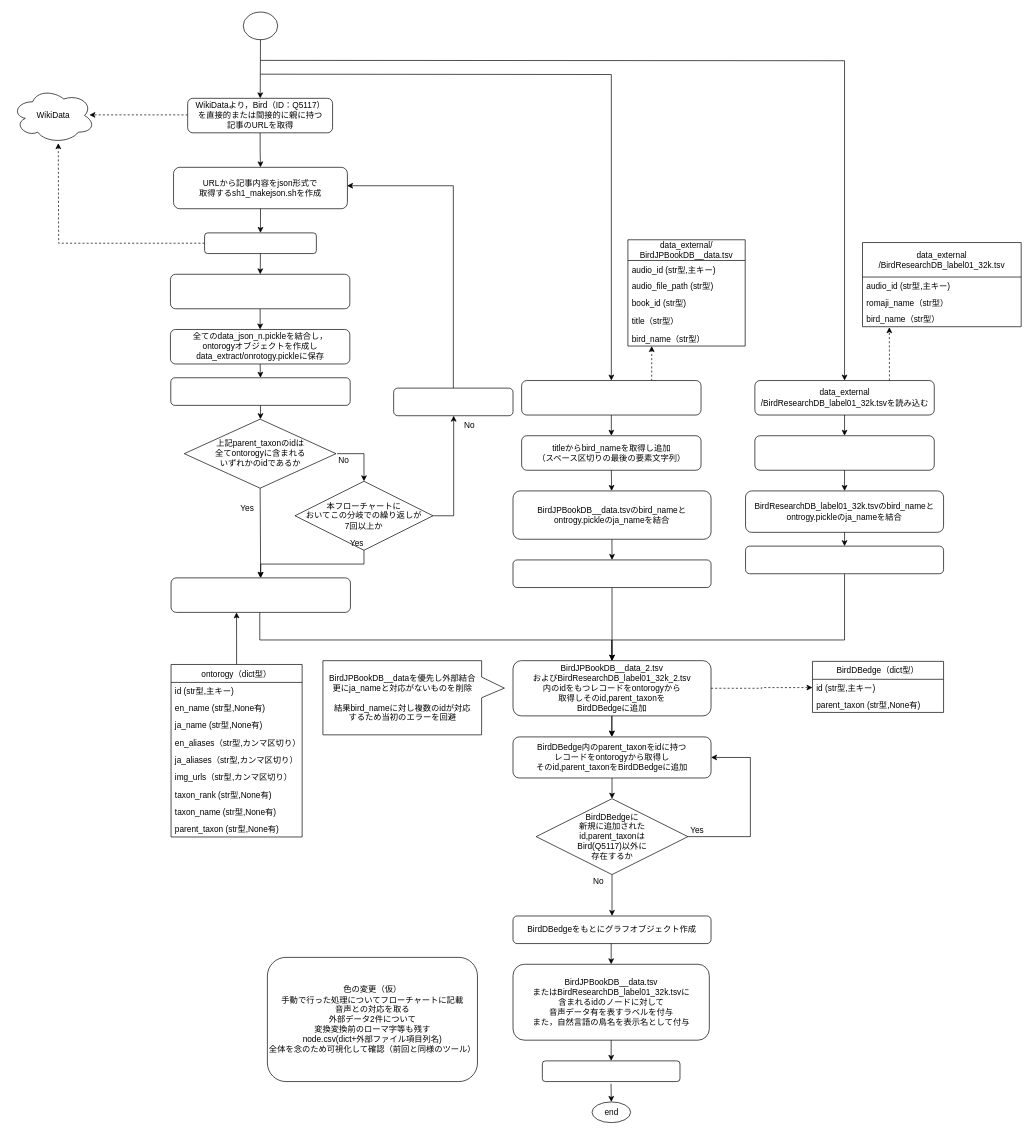
Image size: 1034x1135. Some labels were removed from this diagram. The shapes that lost their labels are listed below. From the top down, each one's centre as x and y in pixels, then its label:
At (260,25): "start".
At (260,243): "sh_make.shを実行".
At (260,291): "実行結果を順に複数の data_extract/ data_json_n.pickle (ただしn = 1,2,...,7,8)ファイルに保存".
At (260,391): "ontorogyにおけるparent_taxon一覧を作成".
At (453,401): "ontorogyに存在しない idの記事URLを作成".
At (611,397): "data_external/BirdJPBookDB__data.tsv を読込む".
At (844,452): "romaji_nameをローマ字カナ変換モジュール に通し，bird_nameを取得・追加".
At (611,573): "BirdJPBookDB__data_2.tsvに結果を保存".
At (844,559): "BirdResearchDB_label01_32k_2.tsvに結果を保存".
At (260,594): "ontorogyからidとparentを取得し 親子関係を表すtsvであるedges.tsvに格納".
At (611,1071): "グラフオブジェクトを描画".
